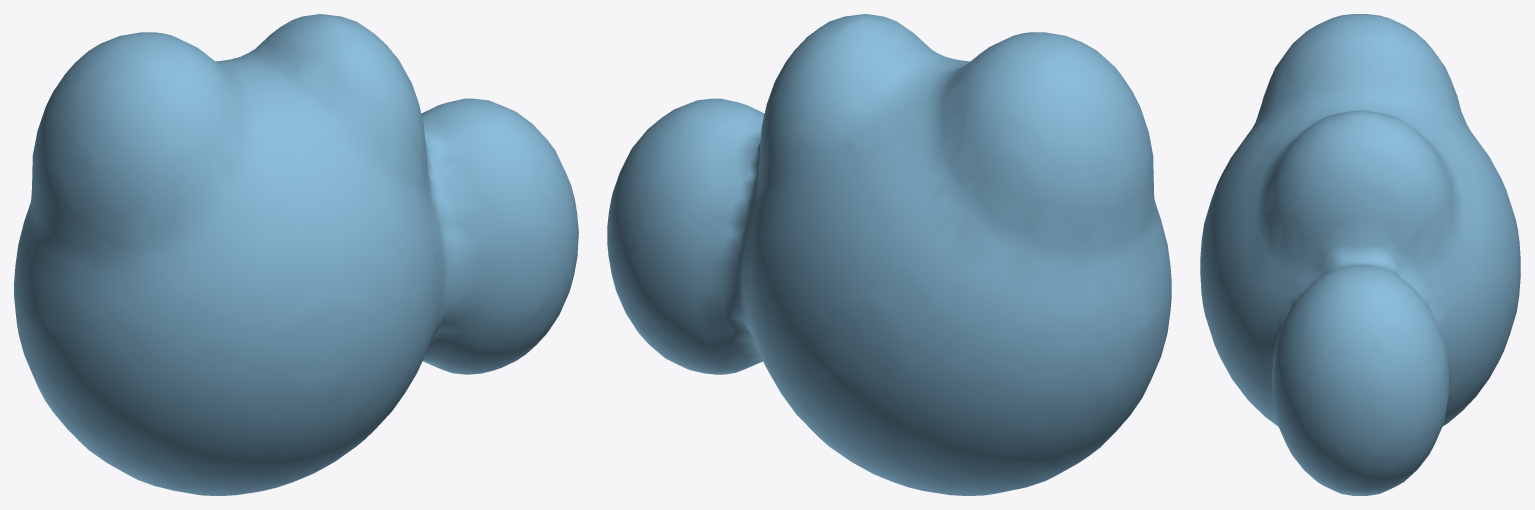
Rendered from cloth-cloud.glb.
3 renders of one model, left to right at view 1: azimuth 30°, elevation 25°; view 2: azimuth 150°, elevation 25°; view 3: azimuth 270°, elevation 25°, orthographic. The views are drawn at different scales.
Visible parts, largest first — view 1: cloth-cloud; view 2: cloth-cloud; view 3: cloth-cloud.
Part boxes in pixels (left/top/right/bottom): cloth-cloud: left=14, top=14, right=578, bottom=495; cloth-cloud: left=607, top=14, right=1171, bottom=495; cloth-cloud: left=1200, top=14, right=1520, bottom=495.
Size of the model in its own units: 2 by 1.65 by 1.26.
